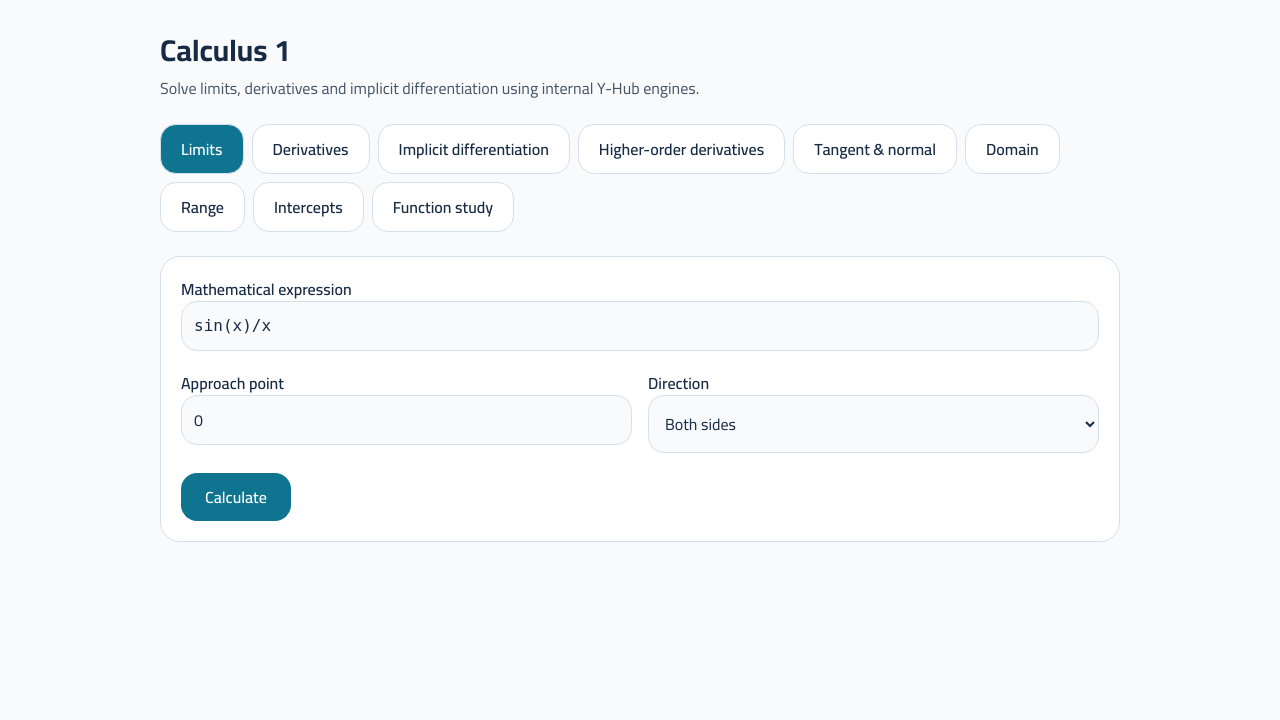
it: Calculus 1 exact range UI › displays the verified quadratic range
This screenshot has width=1280, height=720.
Click the tab "Range" at (202,207), box [160,182,245,232]
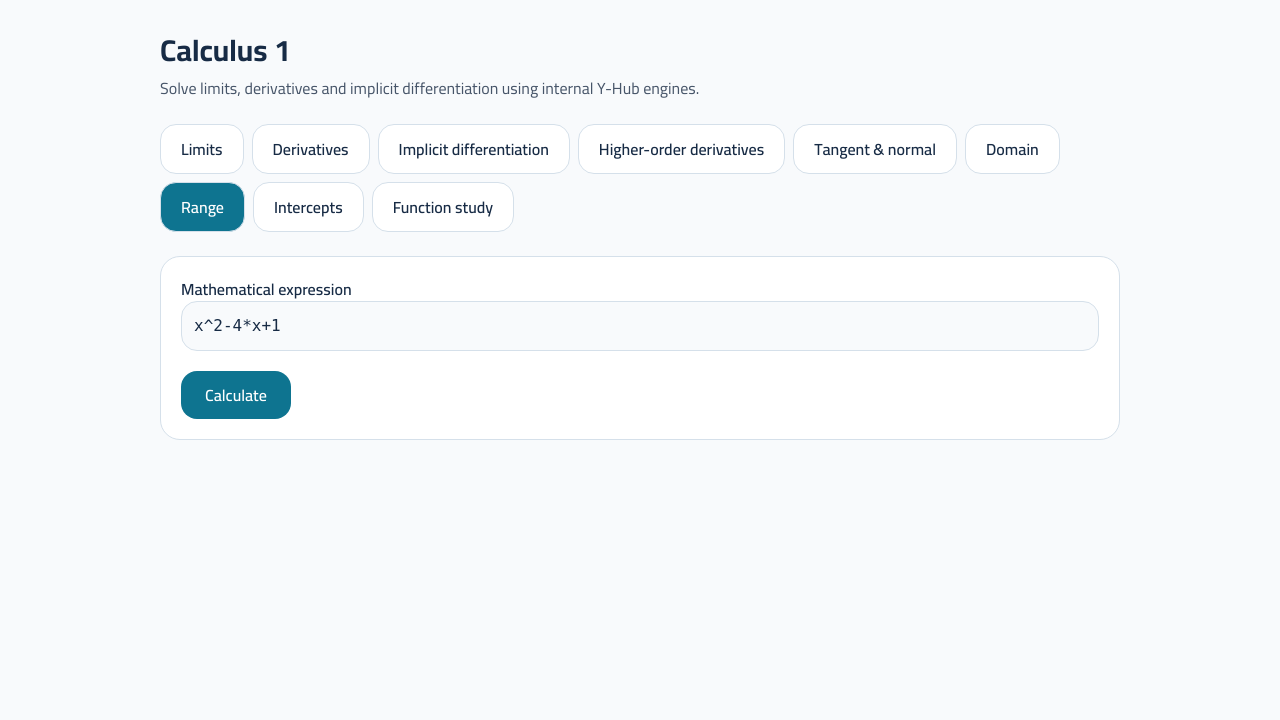
Result: the field labelled "Mathematical expression" holds "x^2-4*x+1" at [181,301,1099,351]
Click the button "Calculate" at (236,395), box [181,371,291,419]
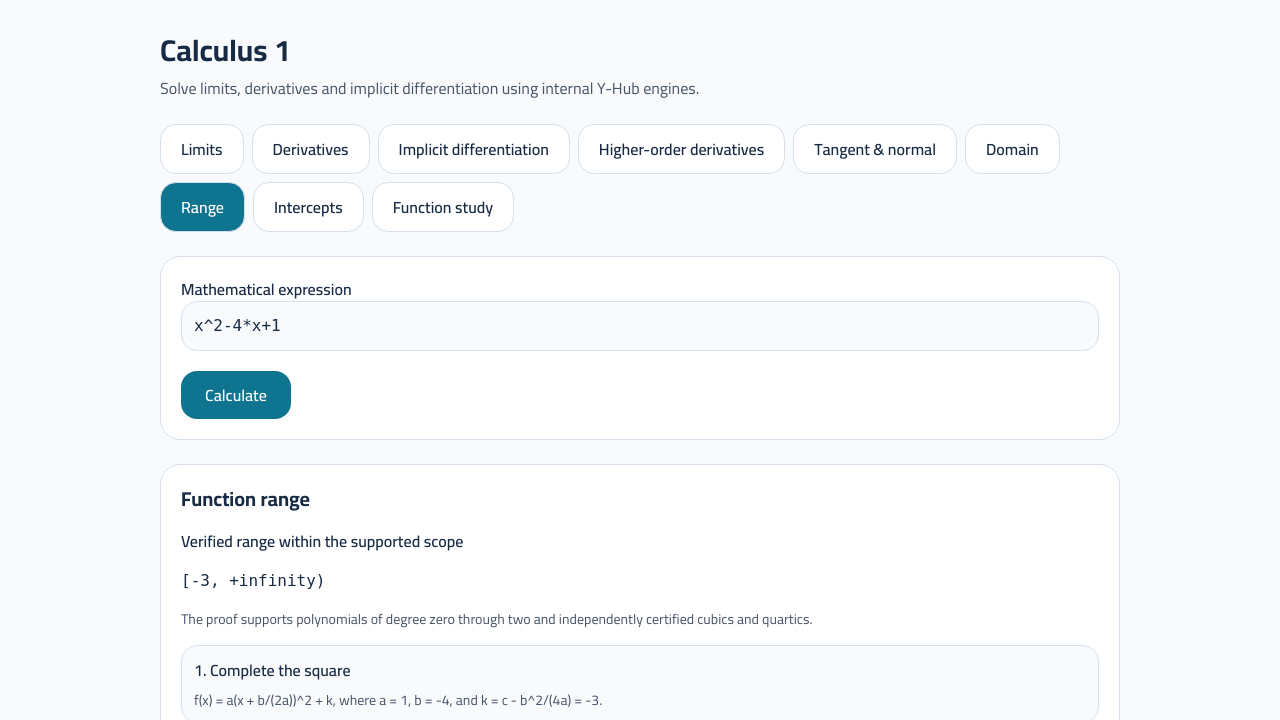
Result: the element named "Verified real range" shows "Verified range within the supported scope" at [181,526,463,556]
Result: the text with test id "exact-range-result" reads "[-3, +infinity)" at [181,571,326,590]
